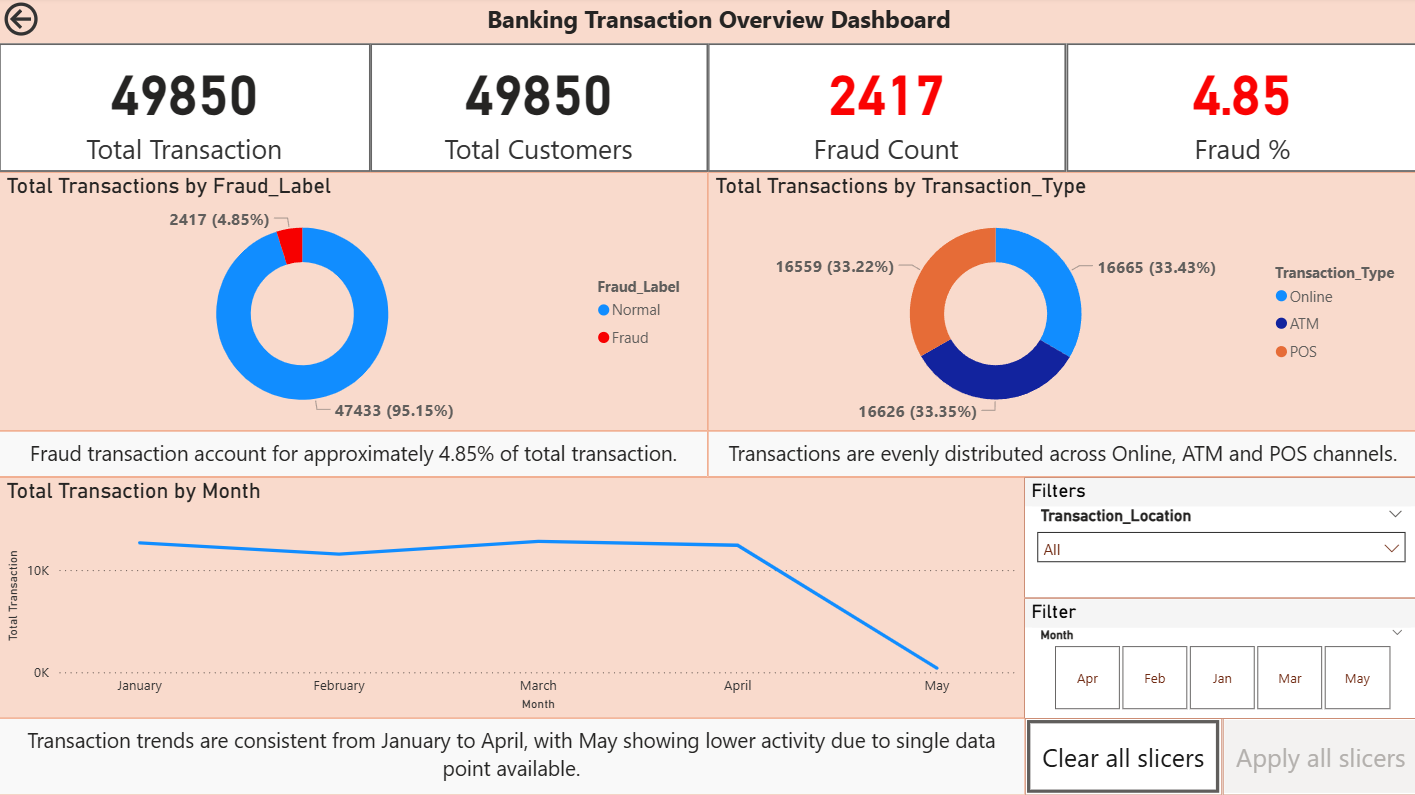

What the dashboard file says about the page in this screenshot:
{"tool":"powerbi","page":{"name":"Overview","canvas":[1280,720],"ordinal":1},"visuals":[{"type":"card","fields":{"Values":["Clean_Fraud_datection_fCSV.Total Transaction"]},"box":[0,41.6,335.1,116.2],"z":0},{"type":"card","fields":{"Values":["Clean_Fraud_datection_fCSV.Fraud Count"]},"box":[639.5,41.6,322.8,116.2],"z":1000},{"type":"card","fields":{"Values":["Clean_Fraud_datection_fCSV.Fraud %"]},"box":[962.4,41.6,317.9,116.2],"z":2000},{"type":"donutChart","title":"Total Transactions by Fraud_Label","fields":{"Category":["Clean_Fraud_datection_fCSV.Fraud_Label"],"Y":["Clean_Fraud_datection_fCSV.Total Transaction"]},"box":[0,157.7,639.5,233.6],"z":3000},{"type":"card","fields":{"Values":["Clean_Fraud_datection_fCSV.Total Customers"]},"box":[335.1,41.6,304.5,116.2],"z":4000},{"type":"lineChart","fields":{"Category":["Clean_Fraud_datection_fCSV.Transaction_Date.Variation.Date Hierarchy.Year","Clean_Fraud_datection_fCSV.Transaction_Date.Variation.Date Hierarchy.Quarter","Clean_Fraud_datection_fCSV.Transaction_Date.Variation.Date Hierarchy.Month","Clean_Fraud_datection_fCSV.Transaction_Date.Variation.Date Hierarchy.Day"],"Y":["Clean_Fraud_datection_fCSV.Total Transaction"]},"box":[0,432.9,924.5,217.7],"z":5000},{"type":"donutChart","title":"Total Transactions by Transaction_Type","fields":{"Category":["Clean_Fraud_datection_fCSV.Transaction_Type"],"Y":["Clean_Fraud_datection_fCSV.Total Transaction"]},"box":[639.5,157.7,640.8,233.6],"z":6000},{"type":"textbox","box":[0,0,1280.3,41.6],"z":7000},{"type":"slicer","title":"Filter","fields":{"Values":["Clean_Fraud_datection_fCSV.Month"]},"box":[924.5,541.7,355.8,108.8],"z":8000},{"type":"slicer","title":"Filters","fields":{"Values":["Clean_Fraud_datection_fCSV.Transaction_Location"]},"box":[924.5,432.9,355.8,108.8],"z":9000},{"type":"actionButton","box":[925.7,650.5,177.3,69.7],"z":10000},{"type":"actionButton","box":[1103,650.5,177.3,69.7],"z":11000},{"type":"actionButton","box":[0,0,82.2,39.8],"z":12000},{"type":"textbox","box":[0,391.3,639.5,41.6],"z":13000},{"type":"textbox","box":[639.5,391.3,640.8,41.6],"z":14000},{"type":"textbox","box":[0,650.5,924.5,69.7],"z":15000}]}

Visuals, with their boxes in screenshot pixels (x1, y1, x2, y2), scaled from the page's 1280x720 canvas onto the 1415x795 screenshot:
card - Clean_Fraud_datection_fCSV.Total Transaction: [left=0, top=46, right=370, bottom=174]
card - Clean_Fraud_datection_fCSV.Fraud Count: [left=707, top=46, right=1064, bottom=174]
card - Clean_Fraud_datection_fCSV.Fraud %: [left=1064, top=46, right=1414, bottom=174]
"Total Transactions by Fraud_Label" donutChart: [left=0, top=174, right=707, bottom=432]
card - Clean_Fraud_datection_fCSV.Total Customers: [left=370, top=46, right=707, bottom=174]
lineChart - Clean_Fraud_datection_fCSV.Transaction_Date.Variation.Date Hierarchy.Year x Clean_Fraud_datection_fCSV.Transaction_Date.Variation.Date Hierarchy.Quarter: [left=0, top=478, right=1022, bottom=718]
"Total Transactions by Transaction_Type" donutChart: [left=707, top=174, right=1414, bottom=432]
textbox: [left=0, top=0, right=1414, bottom=46]
"Filter" slicer: [left=1022, top=598, right=1414, bottom=718]
"Filters" slicer: [left=1022, top=478, right=1414, bottom=598]
actionButton: [left=1023, top=718, right=1219, bottom=794]
actionButton: [left=1219, top=718, right=1414, bottom=794]
actionButton: [left=0, top=0, right=91, bottom=44]
textbox: [left=0, top=432, right=707, bottom=478]
textbox: [left=707, top=432, right=1414, bottom=478]
textbox: [left=0, top=718, right=1022, bottom=794]
